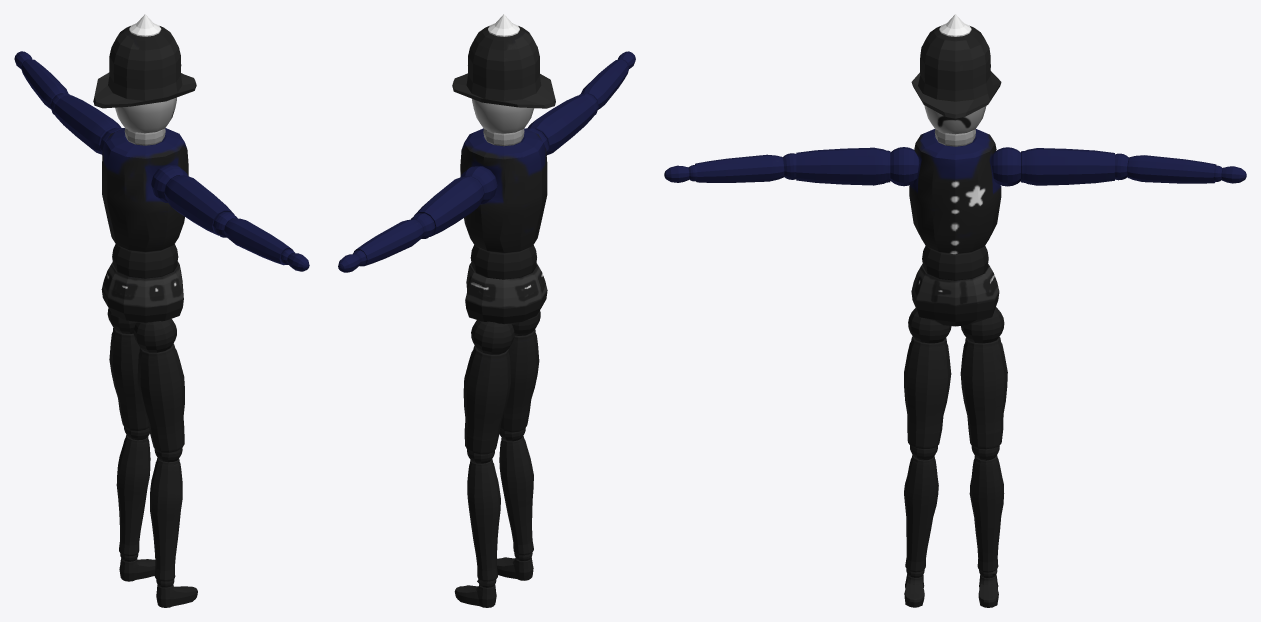
The model's file is CNY_Mann_AP.fbx.
3 renders of one model, left to right at view 1: azimuth 30°, elevation 25°; view 2: azimuth 150°, elevation 25°; view 3: azimuth 270°, elevation 25°, orthographic.
Visible parts, largest first — view 1: PoliceHat; view 2: PoliceHat; view 3: PoliceHat.
Part boxes in pixels (<box>): PoliceHat: <box>14,14,309,607</box>; PoliceHat: <box>338,14,635,607</box>; PoliceHat: <box>664,14,1246,607</box>.
Bounding box in the file's own units: 5.68 × 31.01 × 28.19.
1 material, 1 textured.
